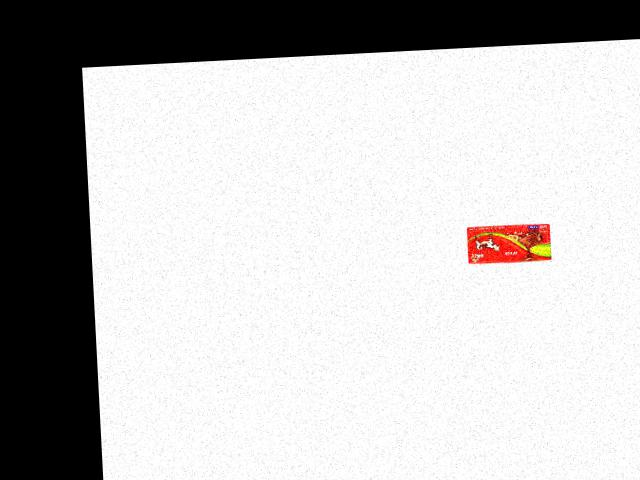chocolate: (460, 215, 553, 267)
